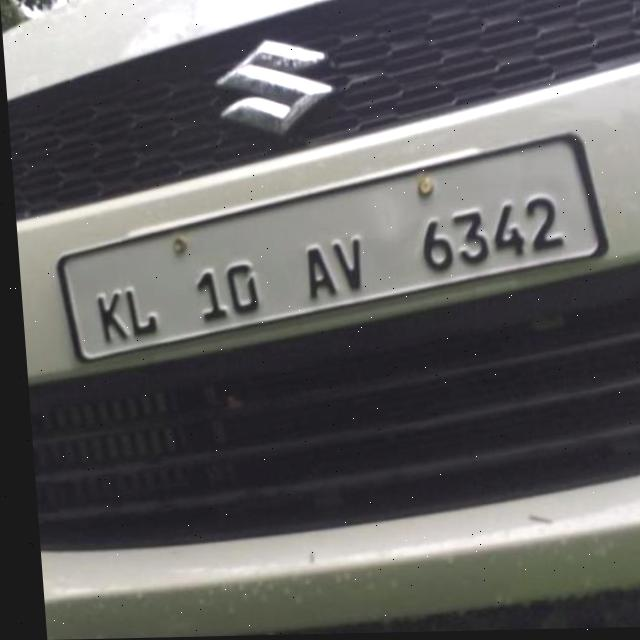plate: (43, 133, 610, 362)
